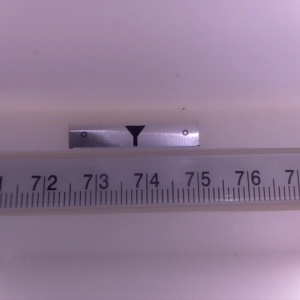2: (46, 175, 57, 191)
3: (98, 173, 108, 189)
4: (149, 172, 159, 188)
5: (200, 171, 210, 187)
6: (251, 170, 261, 186)
7: (30, 175, 41, 191), (133, 173, 143, 189), (82, 174, 92, 190), (284, 169, 294, 185), (184, 171, 193, 187), (234, 171, 243, 186)
finger: (123, 125, 146, 148)
